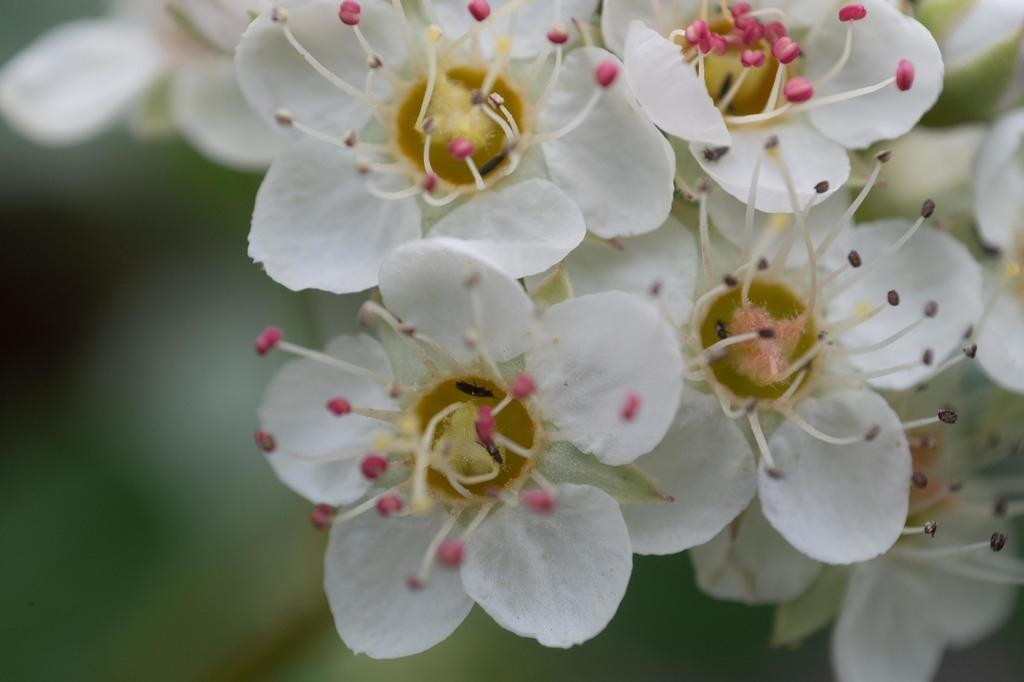tiny_pests: (447, 365, 510, 408), (471, 423, 512, 479)
